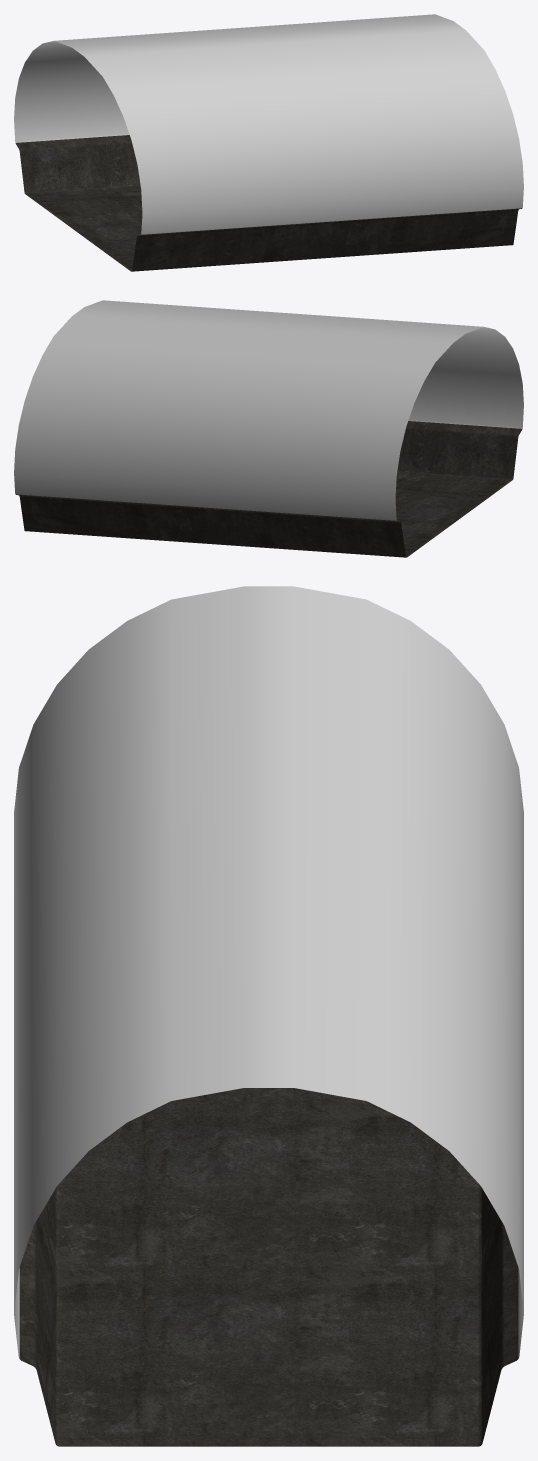
The model's file is tunnel_straight_down_1.obj.
3 renders of one model, top to bottom at view 1: azimuth 30°, elevation 25°; view 2: azimuth 150°, elevation 25°; view 3: azimuth 270°, elevation 25°, orthographic. The views are drawn at different scales.
Parts seen in each view (by area): view 1: tunnel_straight_down_1; view 2: tunnel_straight_down_1; view 3: tunnel_straight_down_1.
Part boxes in pixels (<box>): tunnel_straight_down_1: <box>14,14,523,271</box>; tunnel_straight_down_1: <box>14,300,523,557</box>; tunnel_straight_down_1: <box>14,586,523,1446</box>.
Bounding box in the file's own units: 6 × 3.72 × 3.5.
